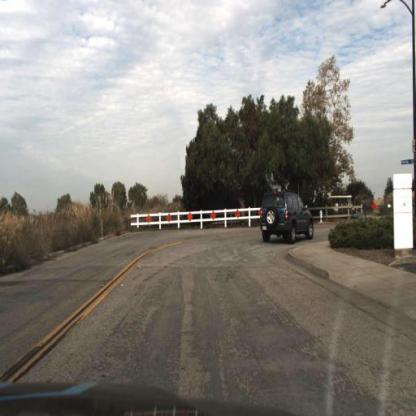car: (259, 191, 316, 240)
